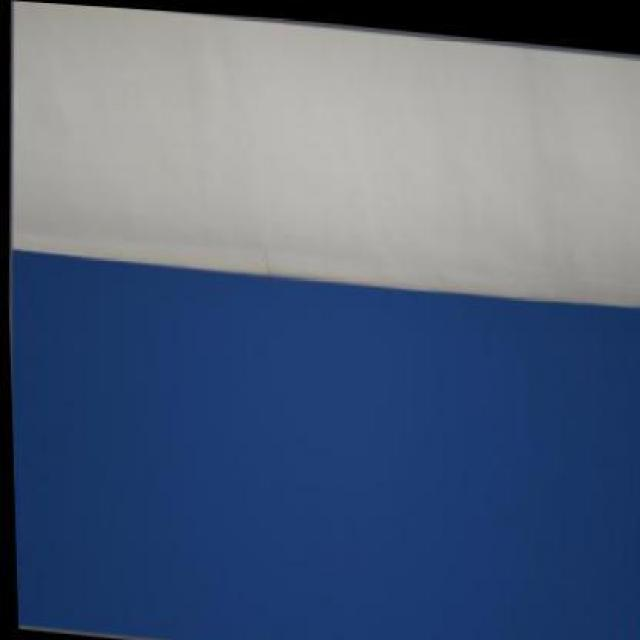Crack: (253, 248, 282, 276)
